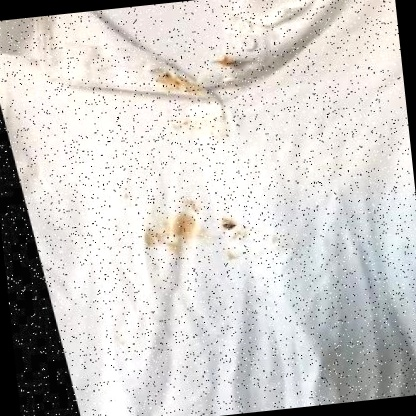coffee: (172, 212, 197, 238), (161, 74, 187, 89)
